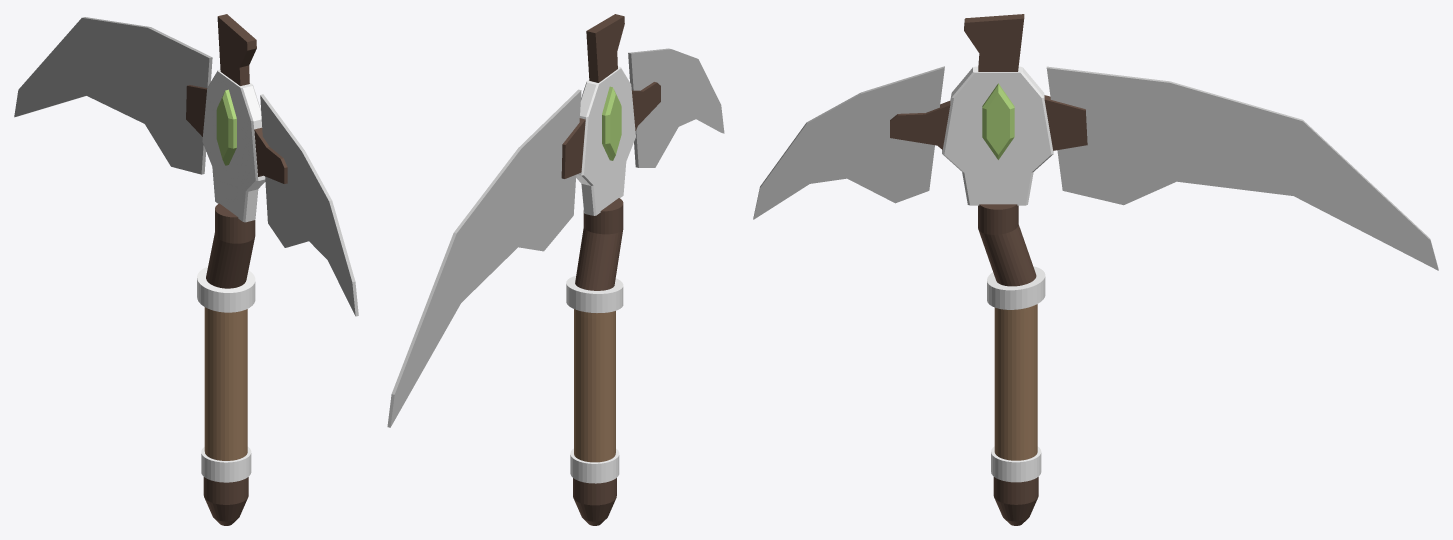
Rendered from BasicPickaxe.fbx.
3 renders of one model, left to right at view 1: azimuth 30°, elevation 25°; view 2: azimuth 150°, elevation 25°; view 3: azimuth 270°, elevation 25°, orthographic. The views are drawn at different scales.
Visible parts, largest first — view 1: Pickaxe1; view 2: Pickaxe1; view 3: Pickaxe1.
Boxes of the visible parts, x1,y1,x2,y2 form: Pickaxe1: (14, 14, 358, 525); Pickaxe1: (387, 14, 724, 525); Pickaxe1: (753, 14, 1438, 525).
Size of the model in its own units: 32.21 by 306 by 375.
